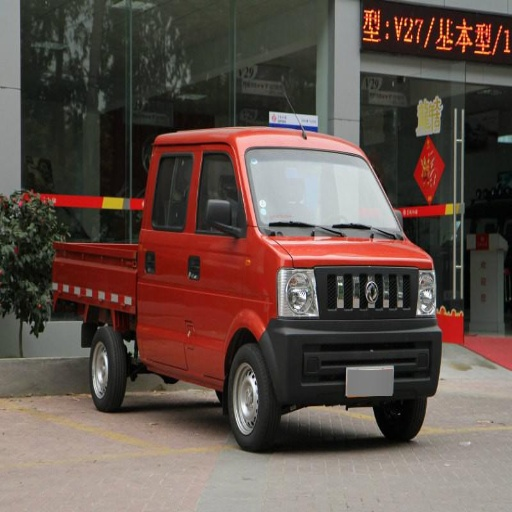front_bumper: (269, 267, 438, 405)
front_right_door: (195, 147, 250, 278)
front_right_light: (277, 260, 319, 317)
trunk: (77, 236, 241, 377)
